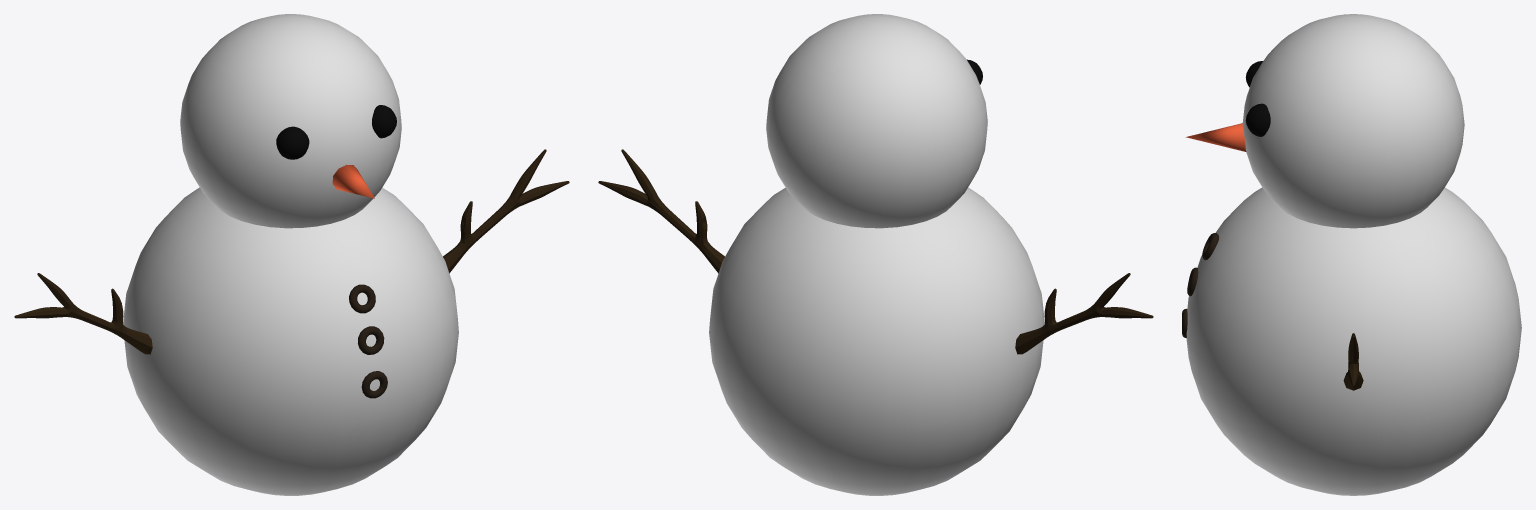
File: snowman.glb
The picture shows the model from 3 angles, left to right: view 1: azimuth 30°, elevation 25°; view 2: azimuth 150°, elevation 25°; view 3: azimuth 270°, elevation 25°; orthographic projection.
Parts seen in each view (by area): view 1: body, head, arms, right_eye, nose, left_eye; view 2: body, head, arms; view 3: body, head, nose, arms, left_eye.
Boxes of the visible parts, x1,y1,x2,y2 form: body: (123,187,458,495); head: (180,14,401,228); arms: (14,149,569,354); right_eye: (276,126,309,159); nose: (332,164,374,198); left_eye: (372,105,396,138); body: (709,187,1044,495); head: (766,14,987,228); arms: (598,149,1153,354); body: (1186,187,1521,495); head: (1242,14,1464,228); nose: (1185,123,1246,151); arms: (1343,333,1363,390); left_eye: (1245,103,1270,136).
Bounding box in the file's own units: 3.81 × 2.99 × 2.02.
